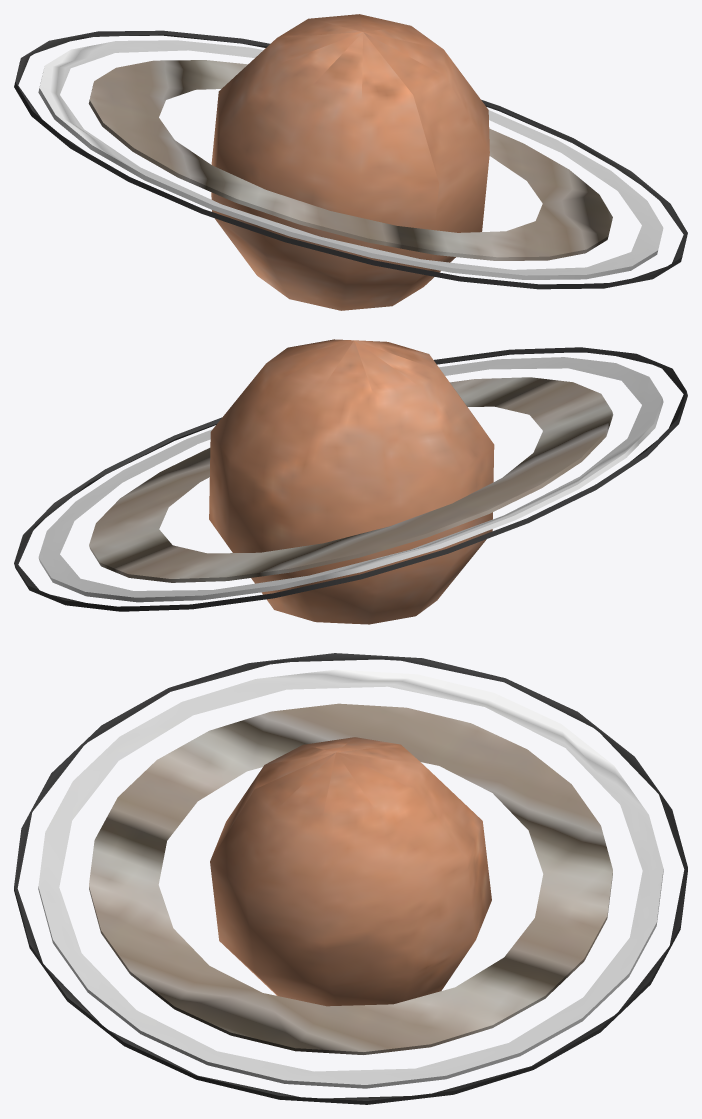
File: Colony_Planet_Art.glb
3 views of the same model, one above another, from view 1: azimuth 30°, elevation 25°; view 2: azimuth 150°, elevation 25°; view 3: azimuth 270°, elevation 25° (orthographic). The views are drawn at different scales.
Visible parts, largest first — view 1: Colony_Planet_Art; view 2: Colony_Planet_Art; view 3: Colony_Planet_Art.
Boxes of the visible parts, x1=… form: Colony_Planet_Art: x1=14, y1=14, x2=687, y2=310; Colony_Planet_Art: x1=14, y1=339, x2=687, y2=624; Colony_Planet_Art: x1=14, y1=653, x2=687, y2=1104.
Size of the model in its own units: 4.45 by 1.99 by 4.64.
1 material, 1 textured.
